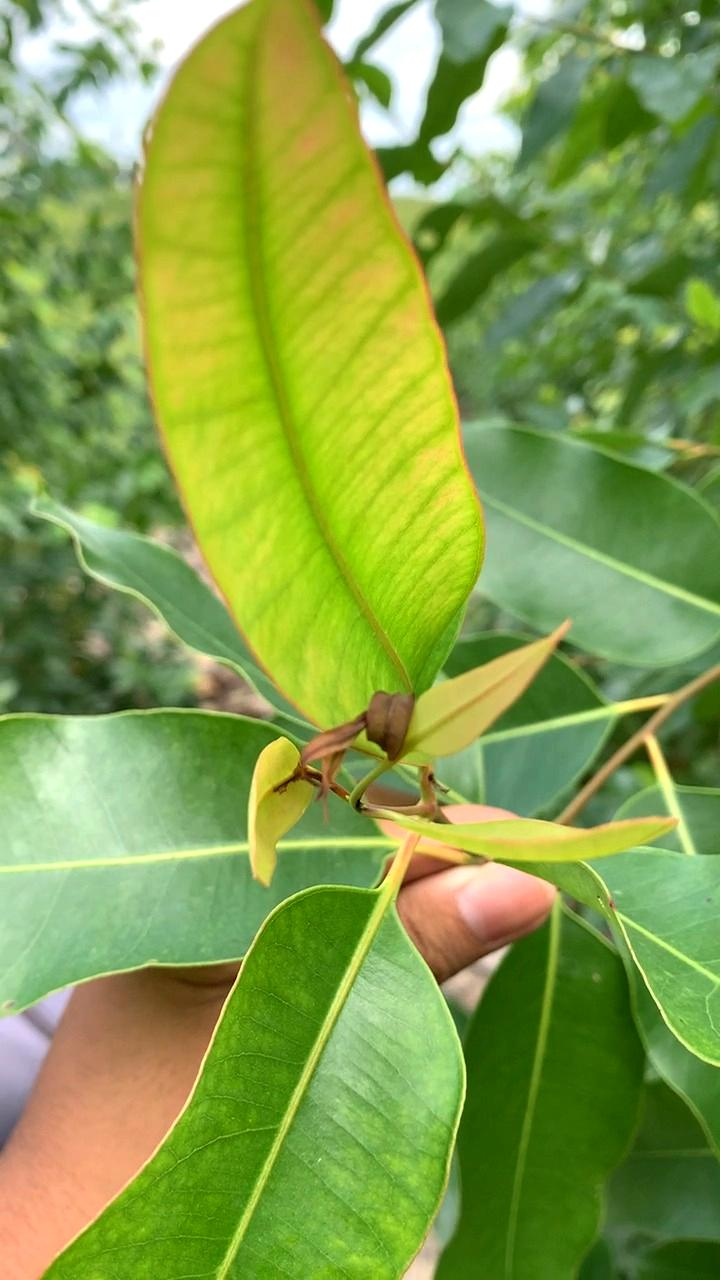Helopeltis-Withered Sprout: (292, 690, 425, 802)
